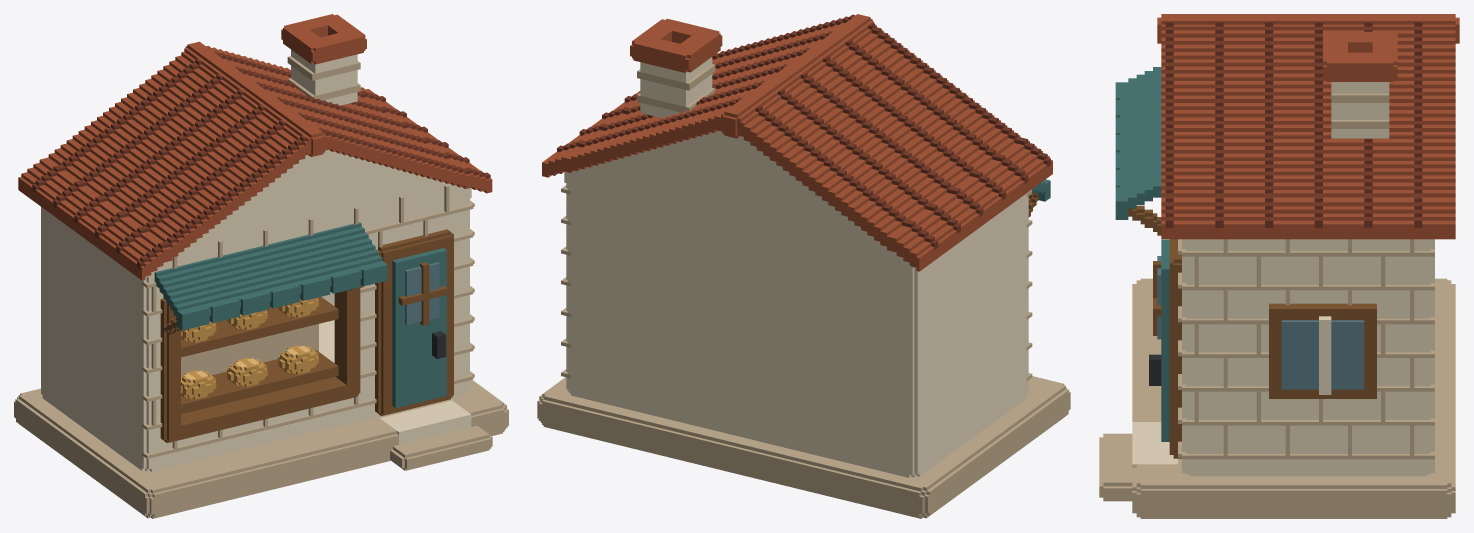
Rendered from bakery_shop.glb.
3 renders of one model, left to right at view 1: azimuth 30°, elevation 25°; view 2: azimuth 150°, elevation 25°; view 3: azimuth 270°, elevation 25°, orthographic. The views are drawn at different scales.
Parts seen in each view (by area): view 1: bakery_shop; view 2: bakery_shop; view 3: bakery_shop.
Part boxes in pixels (bbox=[...]): bakery_shop: bbox=[14, 14, 508, 518]; bakery_shop: bbox=[537, 14, 1070, 518]; bakery_shop: bbox=[1099, 14, 1459, 518].
Bounding box in the file's own units: 6.6 × 6.16 × 4.79.
